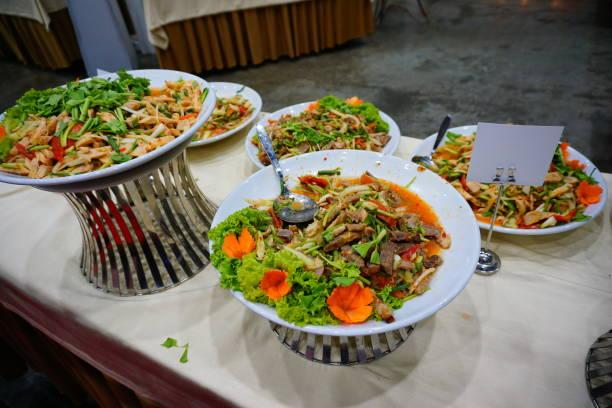Braised Crucian Carp: (209, 150, 475, 338), (1, 69, 213, 189), (410, 124, 608, 234), (242, 99, 398, 170)
